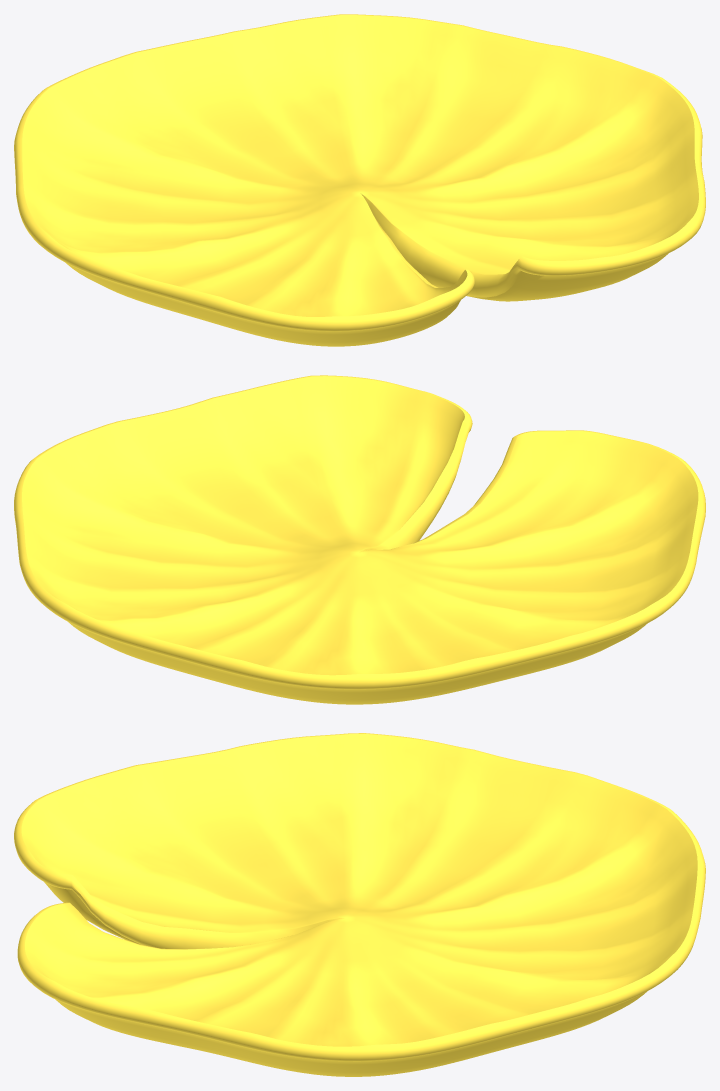
The model's file is LilyPad_Yellow.glb.
The picture shows the model from 3 angles, top to bottom: view 1: azimuth 30°, elevation 25°; view 2: azimuth 150°, elevation 25°; view 3: azimuth 270°, elevation 25°; orthographic projection. The views are drawn at different scales.
Parts seen in each view (by area): view 1: LilyPad_Yellow; view 2: LilyPad_Yellow; view 3: LilyPad_Yellow.
Boxes of the visible parts, x1,y1,x2,y2 form: LilyPad_Yellow: (14,14,705,346); LilyPad_Yellow: (14,375,705,704); LilyPad_Yellow: (14,733,705,1076).
Bounding box in the file's own units: 2 × 0.3388 × 1.84.
